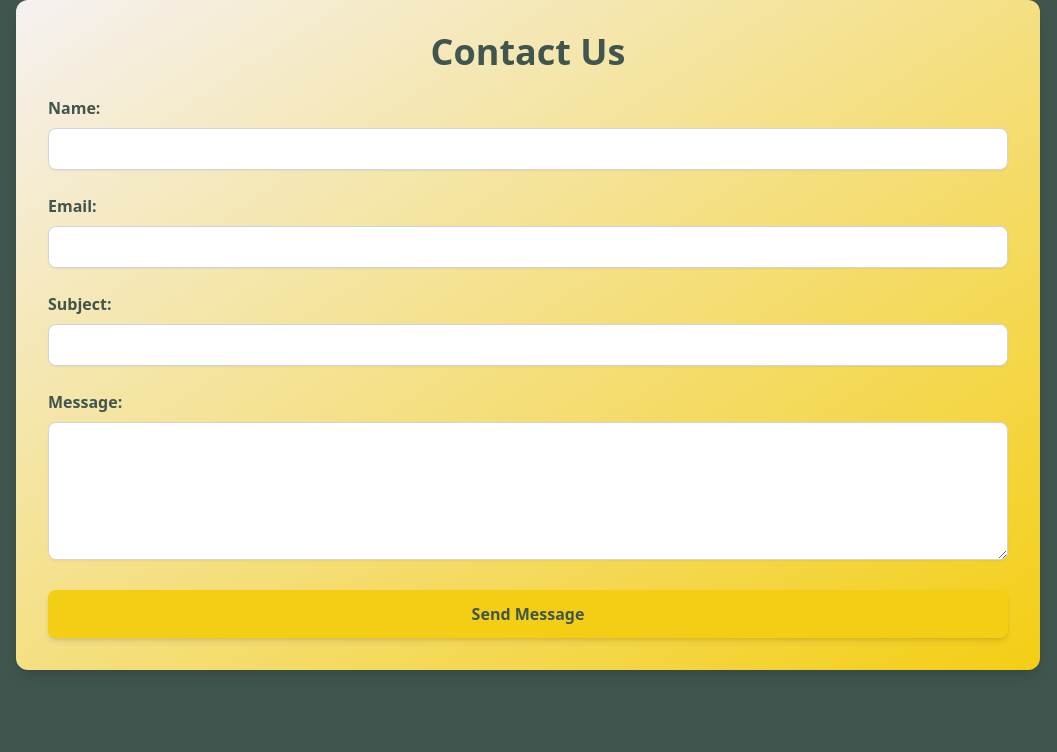
ContactForm Component › accepts input and submits correctly when valid
Note: Fill out the form fields
Type "John Doe" into the field labelled "Name:". click: (528, 149)
box: [48,128,1008,170]
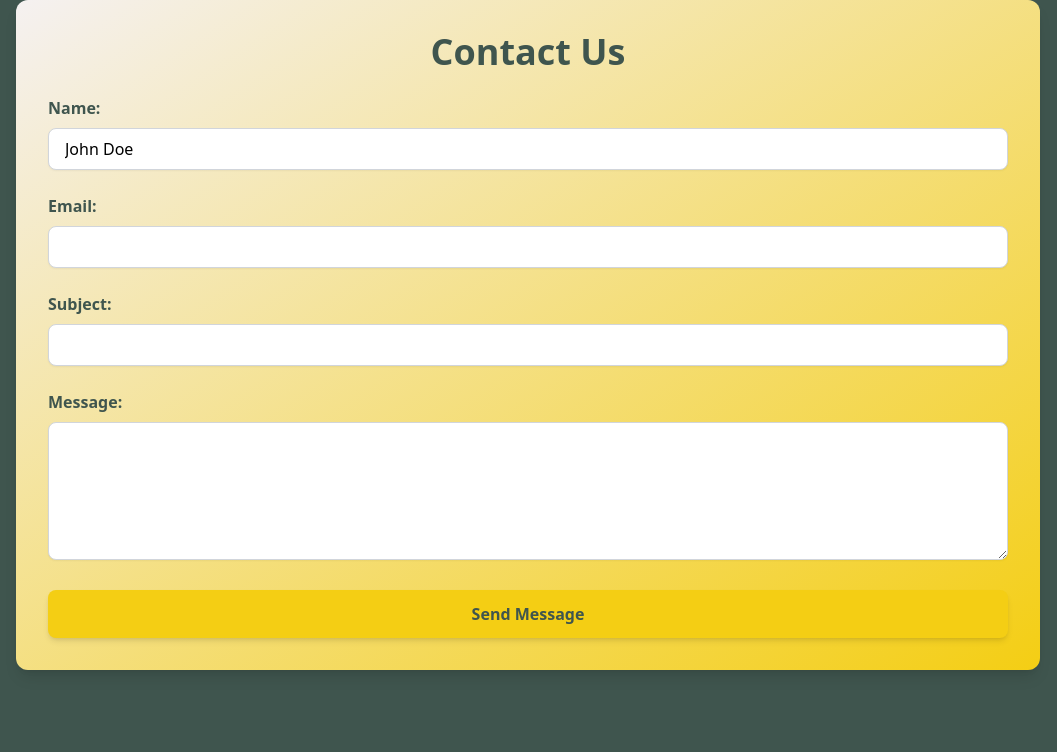
Type "john@example.com" into the field labelled "Email:". click: (528, 247)
box: [48,226,1008,268]
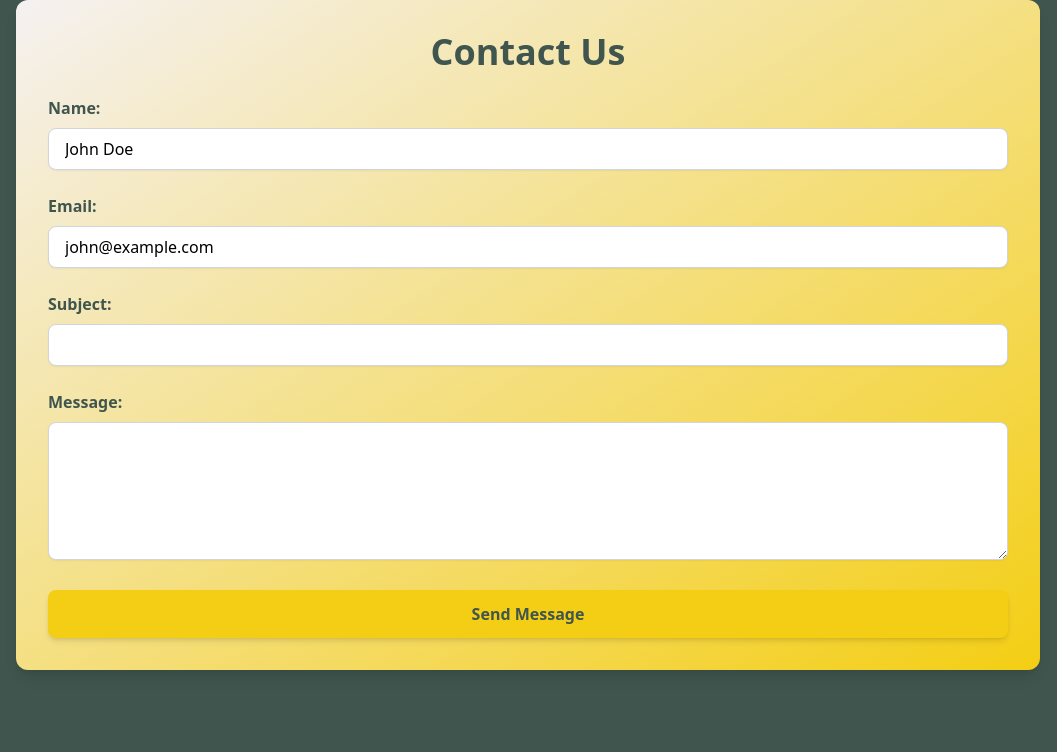
Type "Inquiry" into the field labelled "Subject:". click: (528, 345)
box: [48,324,1008,366]
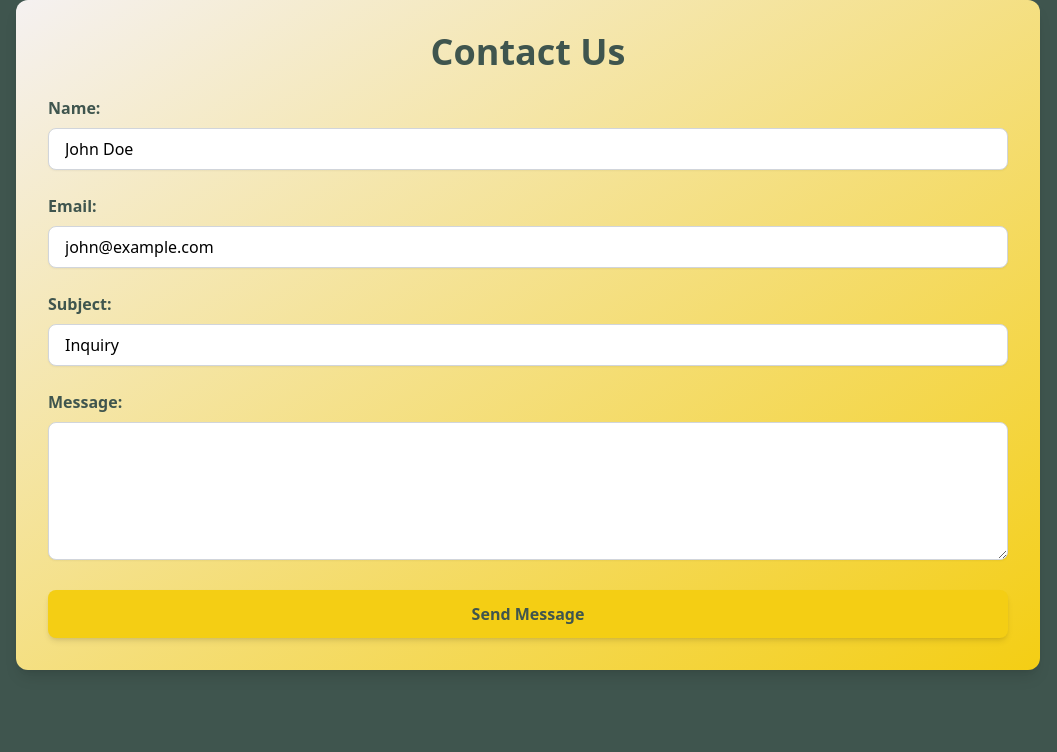
Type "This is a test message." into the text box labelled "Message:". click: (528, 491)
box: [48,422,1008,560]
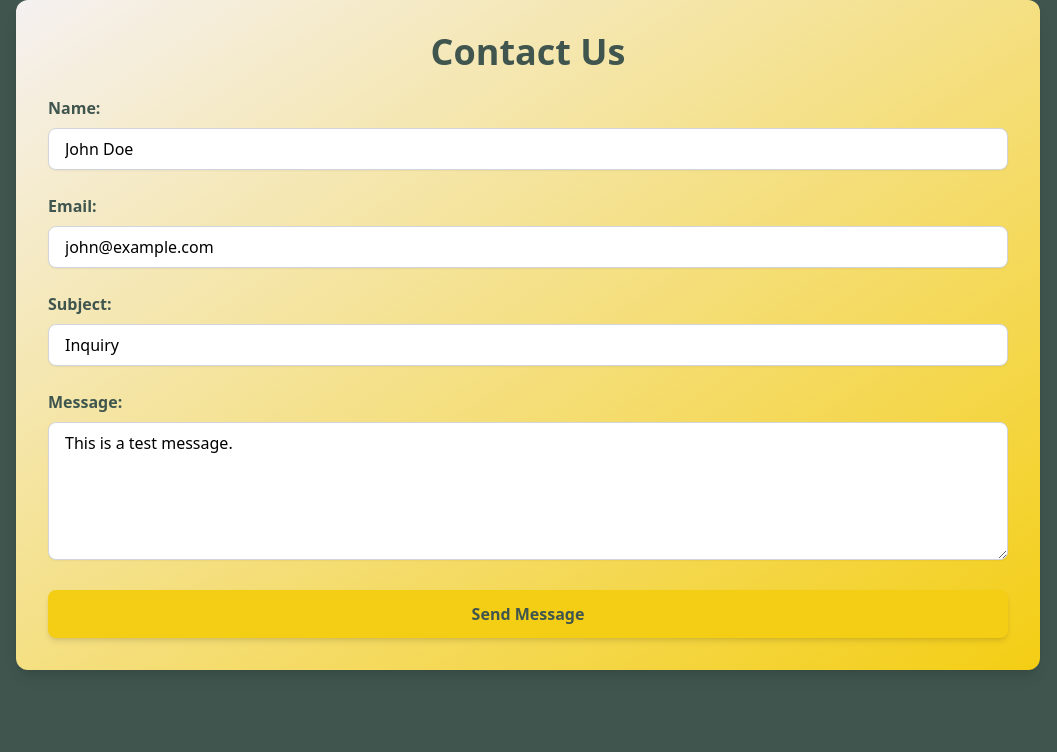
Click the button "Send Message". click: (528, 614)
box: [48,590,1008,638]
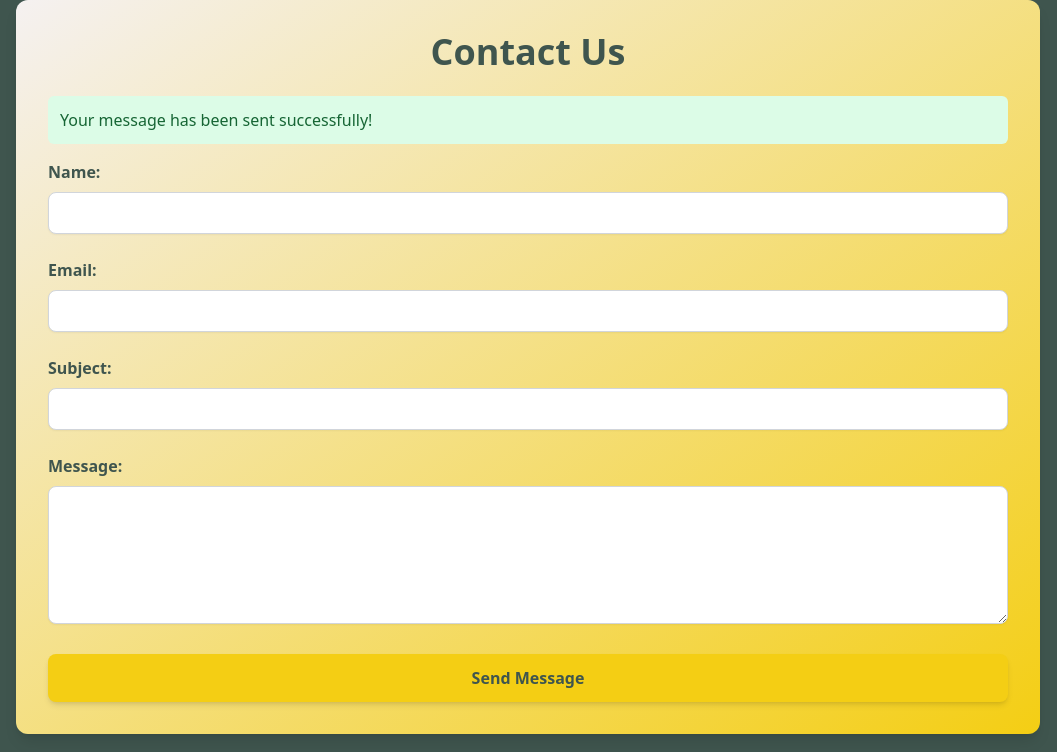
Expected: the text "Your message has been sent successfully!" is shown, [48,96,1008,144]
